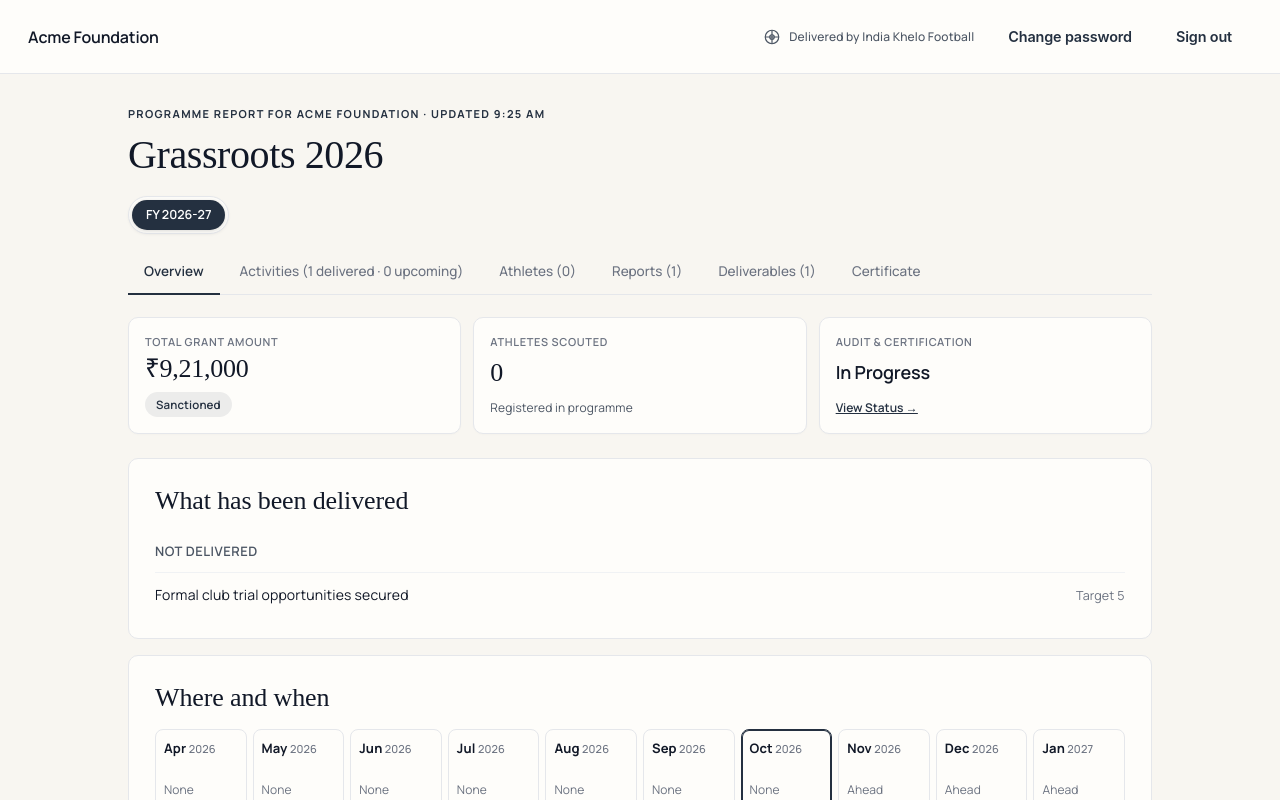
D-032: a missed target of a finished year reads Not delivered › the Deliverables tab labels it once, with no Pending anywhere
This screenshot has width=1280, height=800.
Click the tab "Deliverables (1)" at (767, 272), box [702,250,832,295]
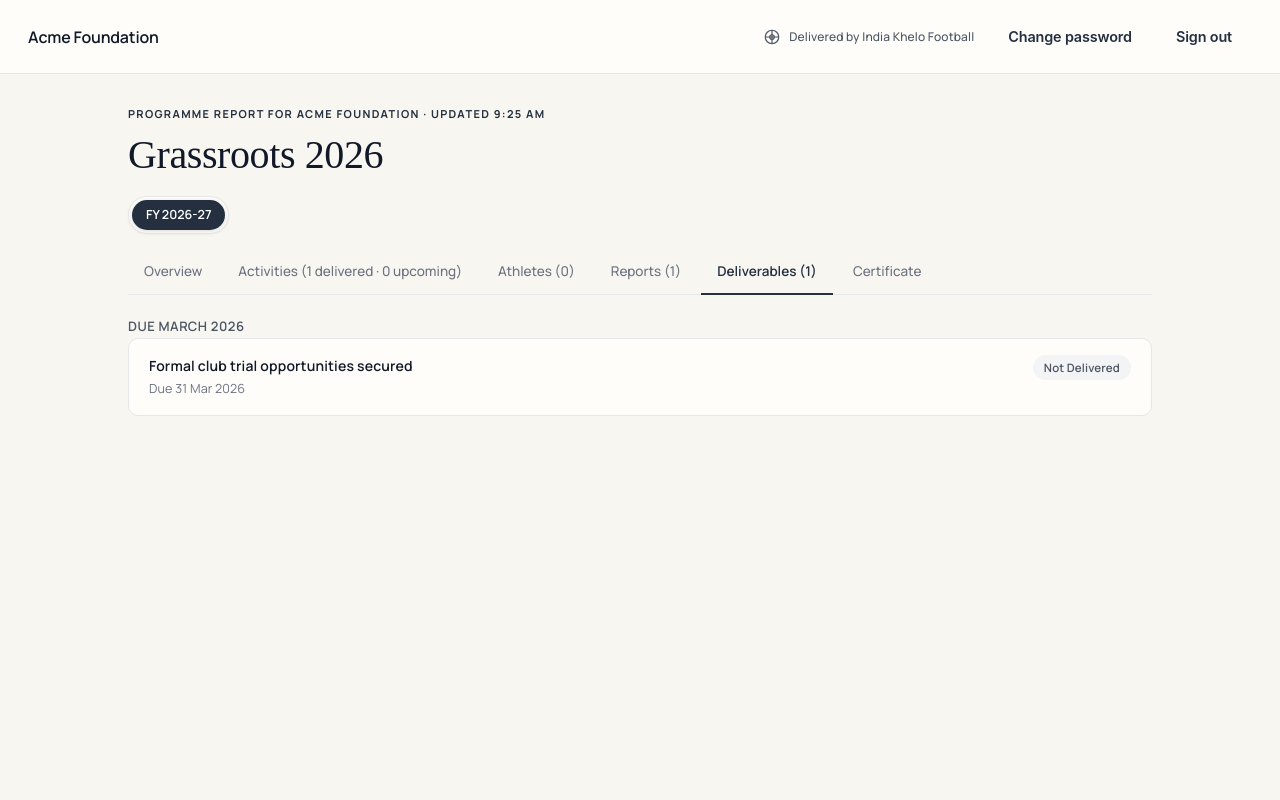
Result: the text "Not Delivered" is shown at [1033,355,1131,380]
